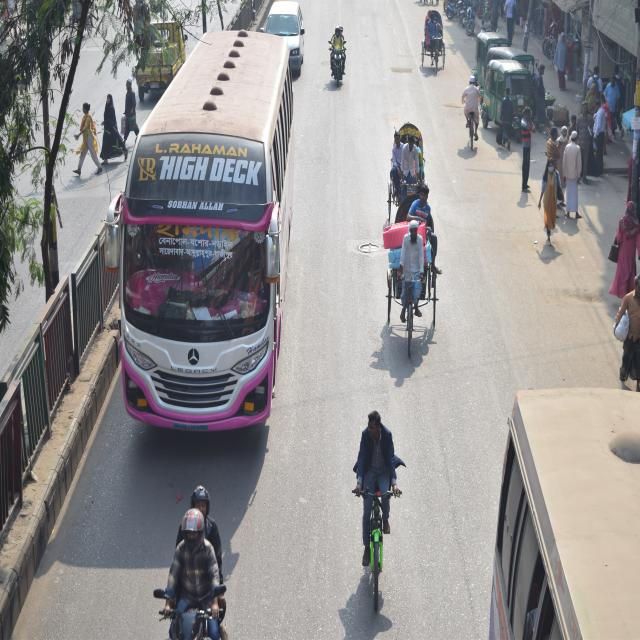bus: (117, 31, 283, 438), (499, 378, 640, 640)
microbus: (270, 0, 304, 68)
motorbike: (150, 578, 222, 640), (325, 33, 348, 96)
